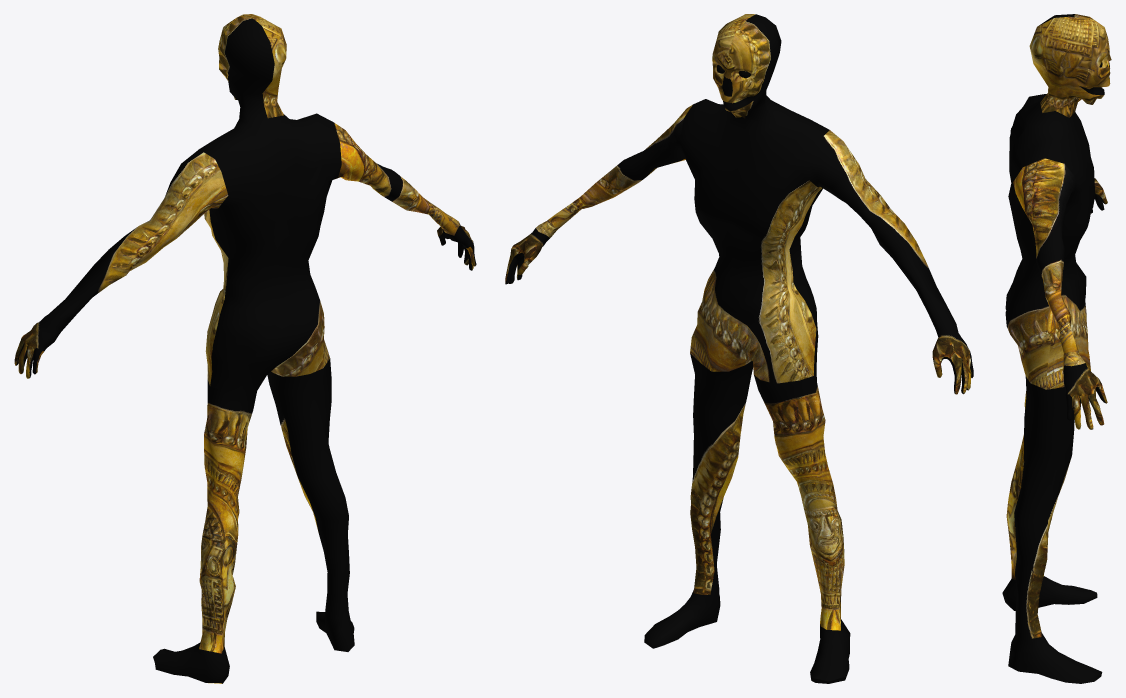
File: fall mummy.fbx
3 renders of one model, left to right at view 1: azimuth 30°, elevation 25°; view 2: azimuth 150°, elevation 25°; view 3: azimuth 270°, elevation 25°, orthographic. The views are drawn at different scales.
Visible parts, largest first — view 1: Z_1_low_Z_1_0; view 2: Z_1_low_Z_1_0; view 3: Z_1_low_Z_1_0.
Part boxes in pixels (<box>): Z_1_low_Z_1_0: <box>14,14,476,683</box>; Z_1_low_Z_1_0: <box>505,14,973,683</box>; Z_1_low_Z_1_0: <box>1002,14,1111,683</box>.
Size of the model in its own units: 6406 by 8532 by 1356.
